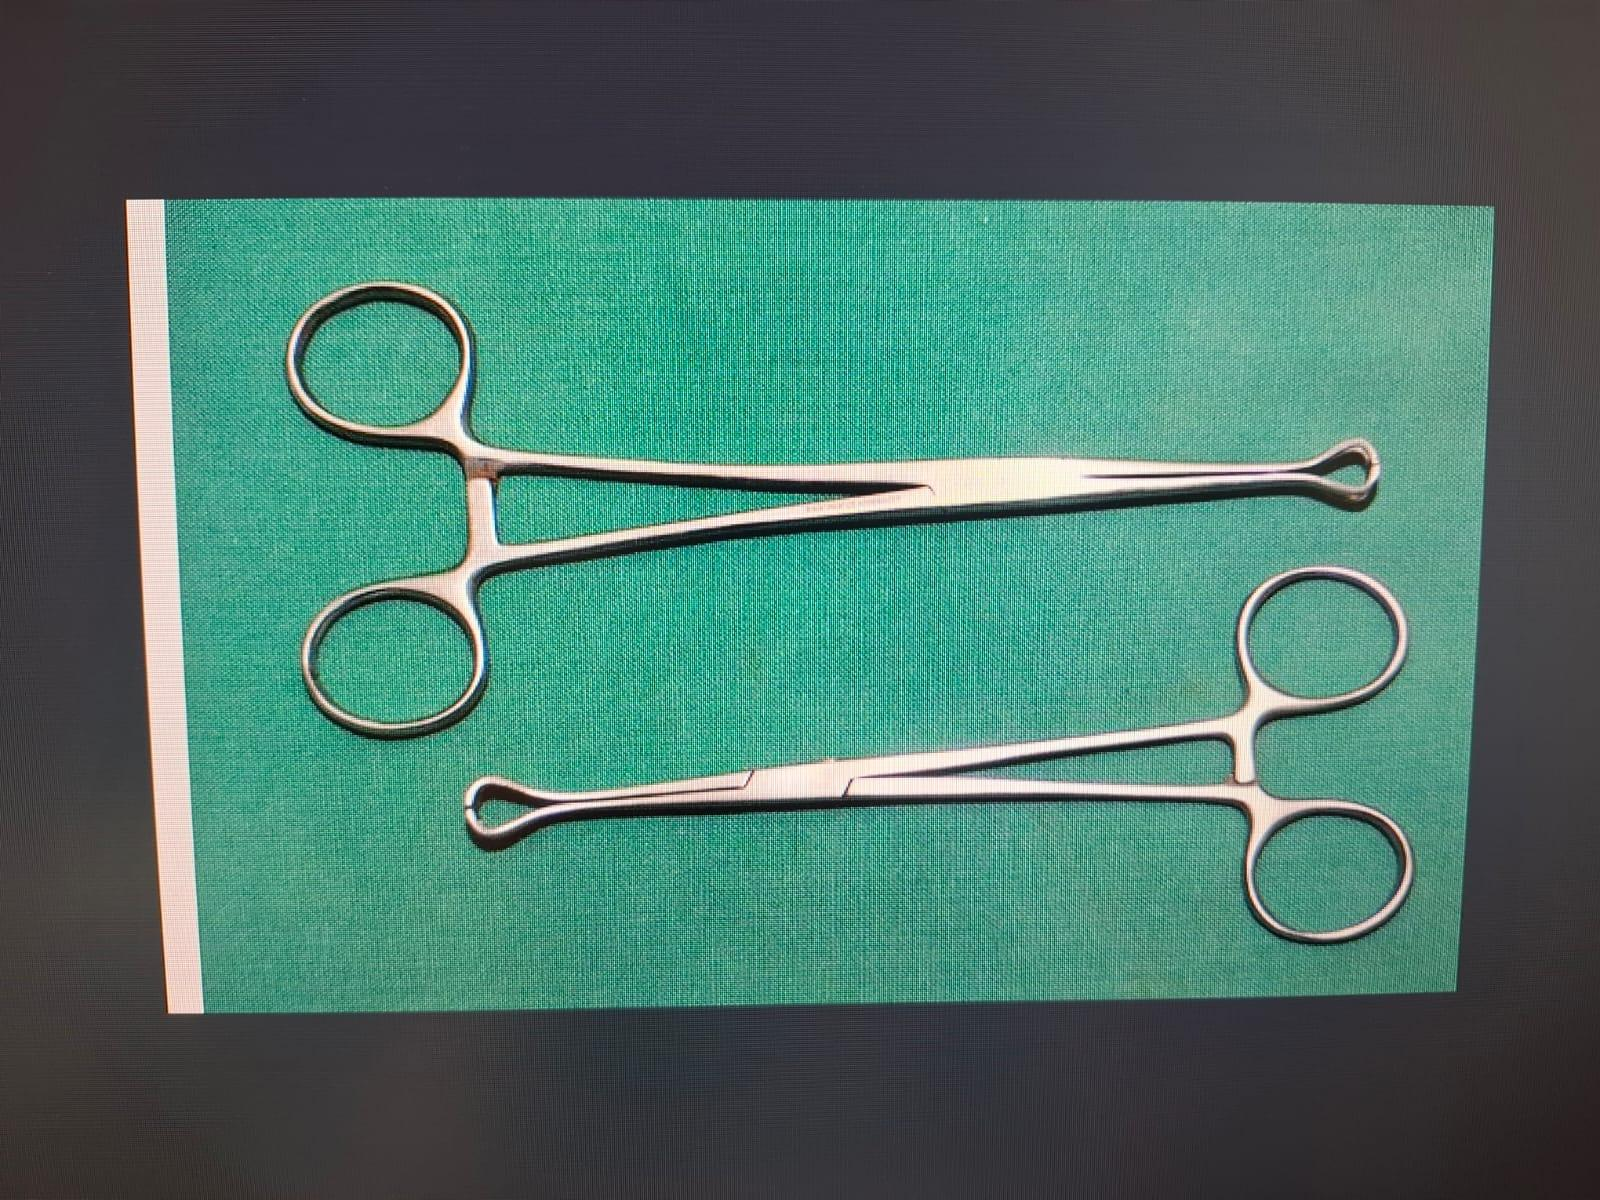Babcock Forceps: (278, 258, 1392, 744), (454, 555, 1420, 964)
